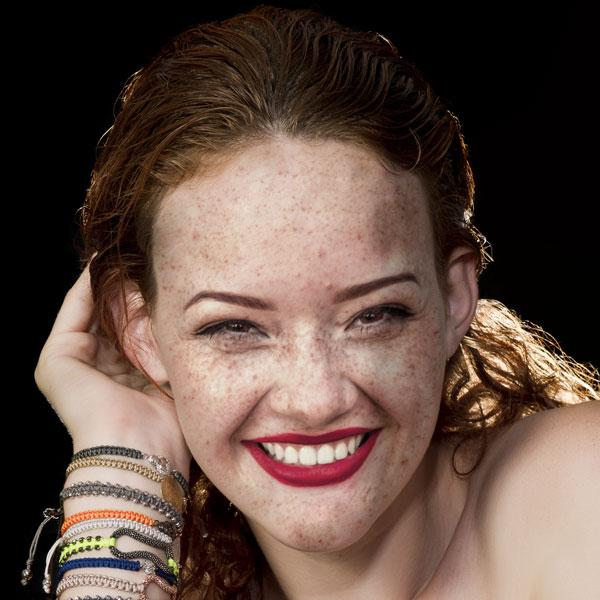Eyes: (335, 298, 421, 348), (188, 308, 278, 352)
